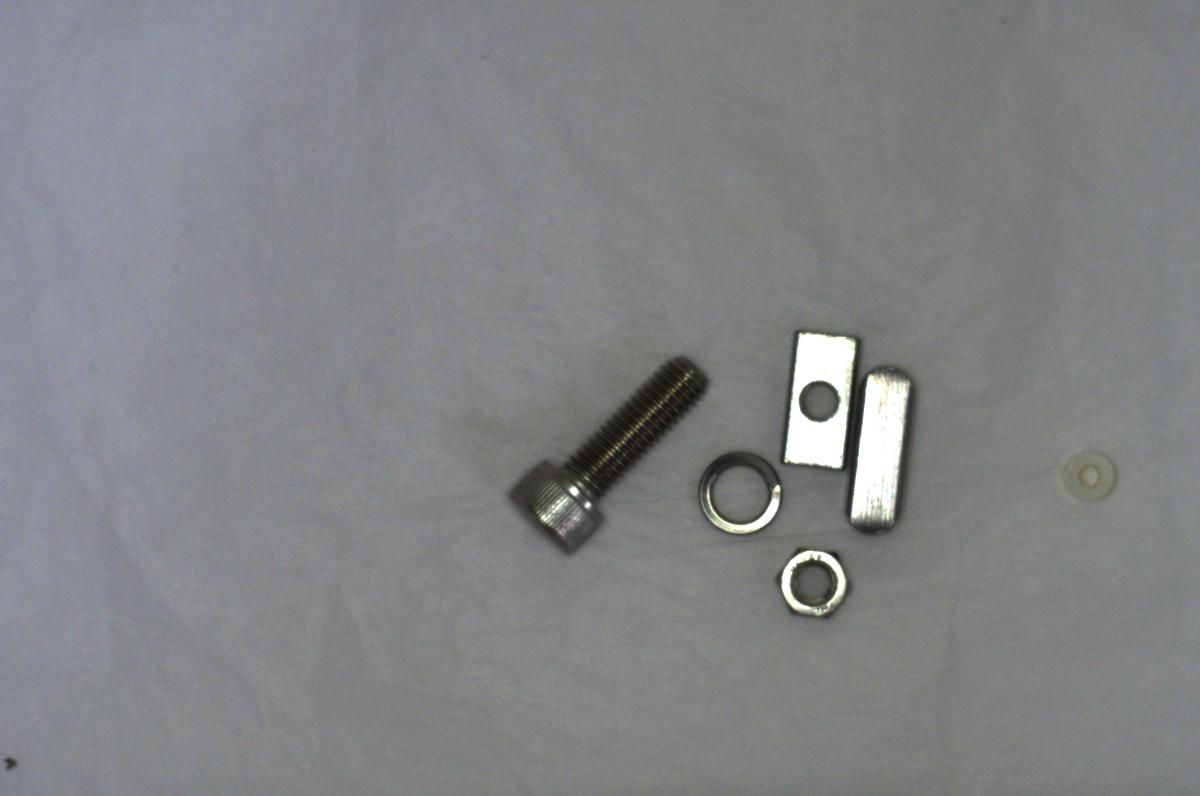Hexagon nut: (765, 536, 857, 629)
Hexagon screw: (500, 341, 711, 550)
Keybar: (838, 361, 915, 533)
Plastic cushion pillar: (1052, 442, 1124, 502)
Rectangular nut: (774, 321, 857, 475)
Spring washer: (695, 442, 793, 541)
